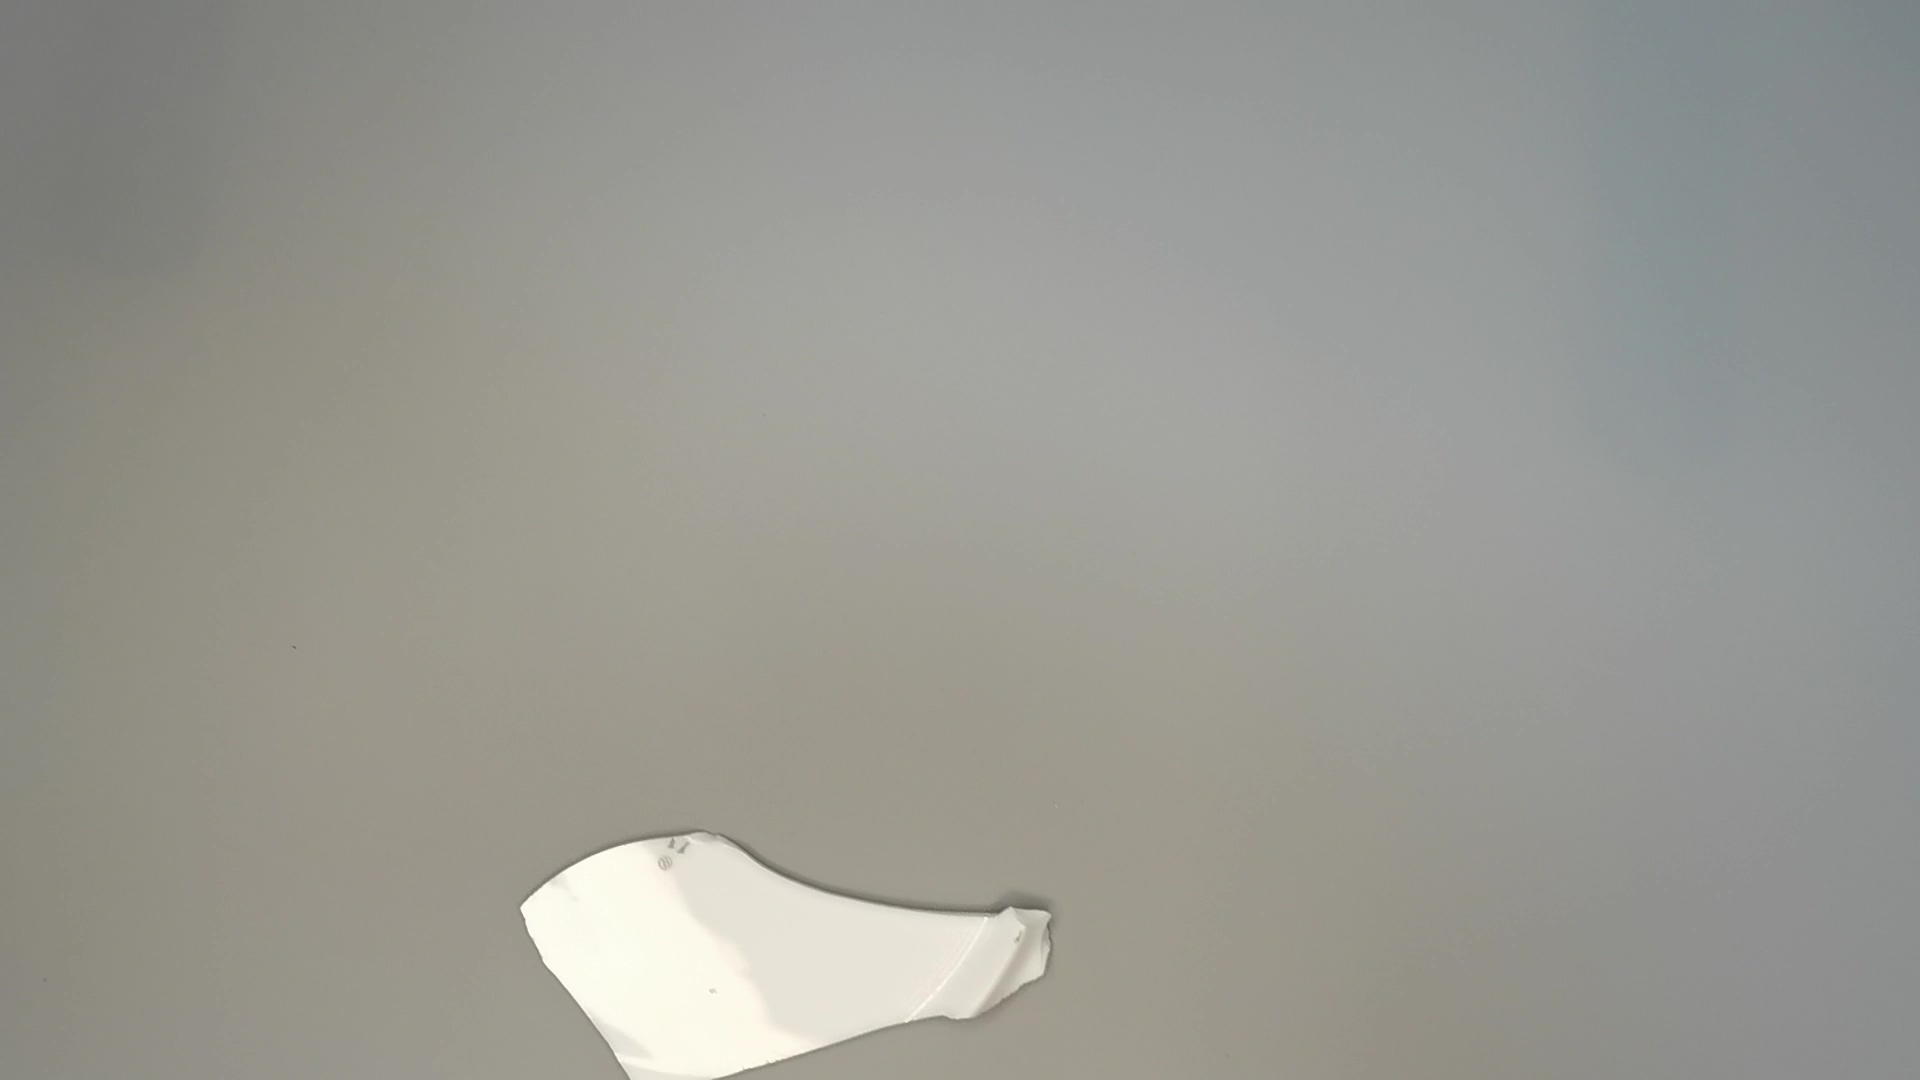ceramic: (512, 824, 1058, 1080)
